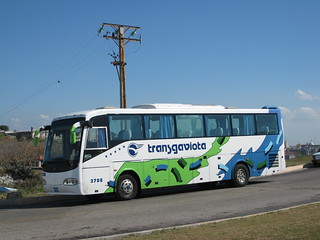bus: (41, 103, 287, 200)
